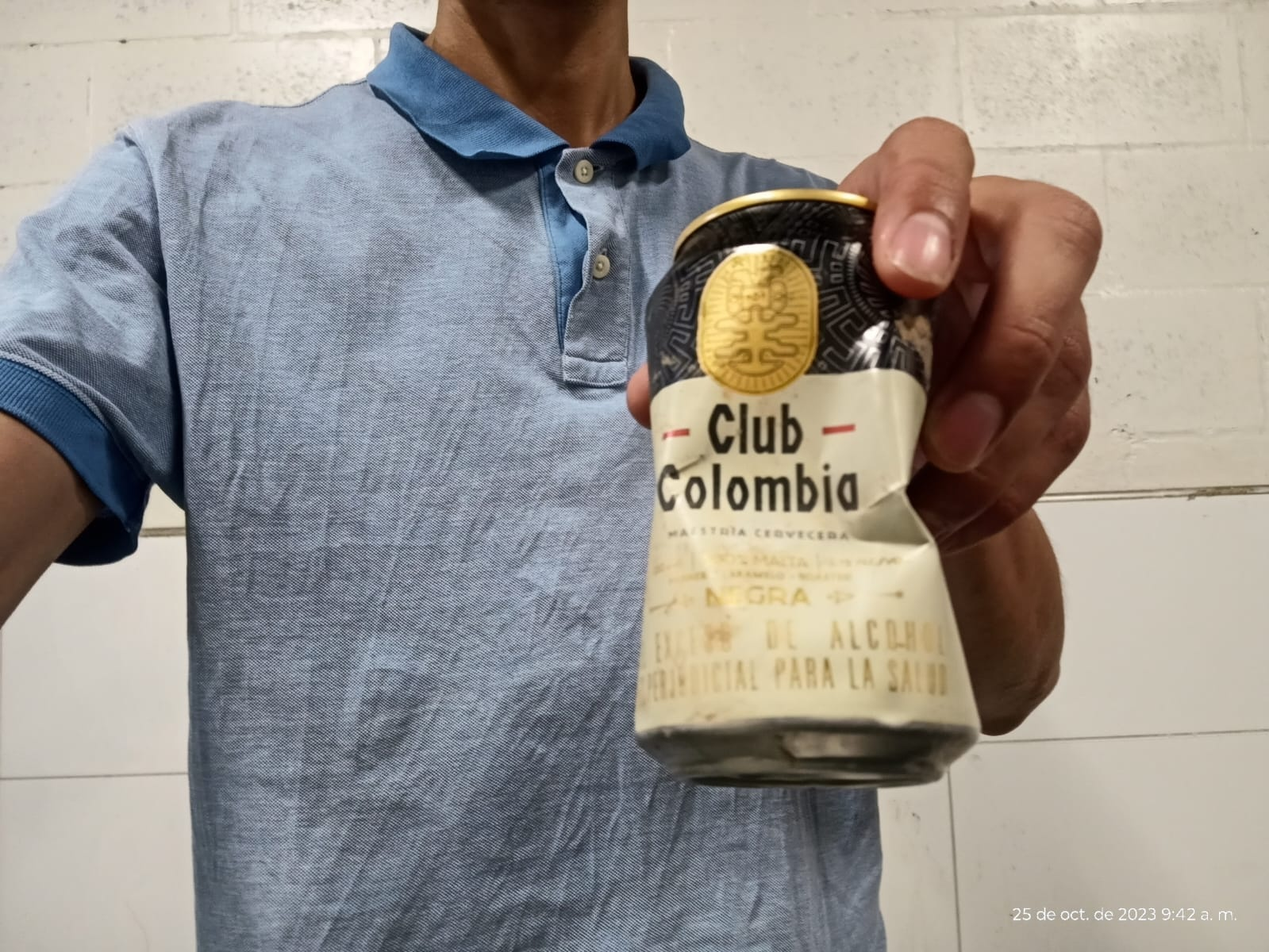Metal: (635, 187, 978, 790)
